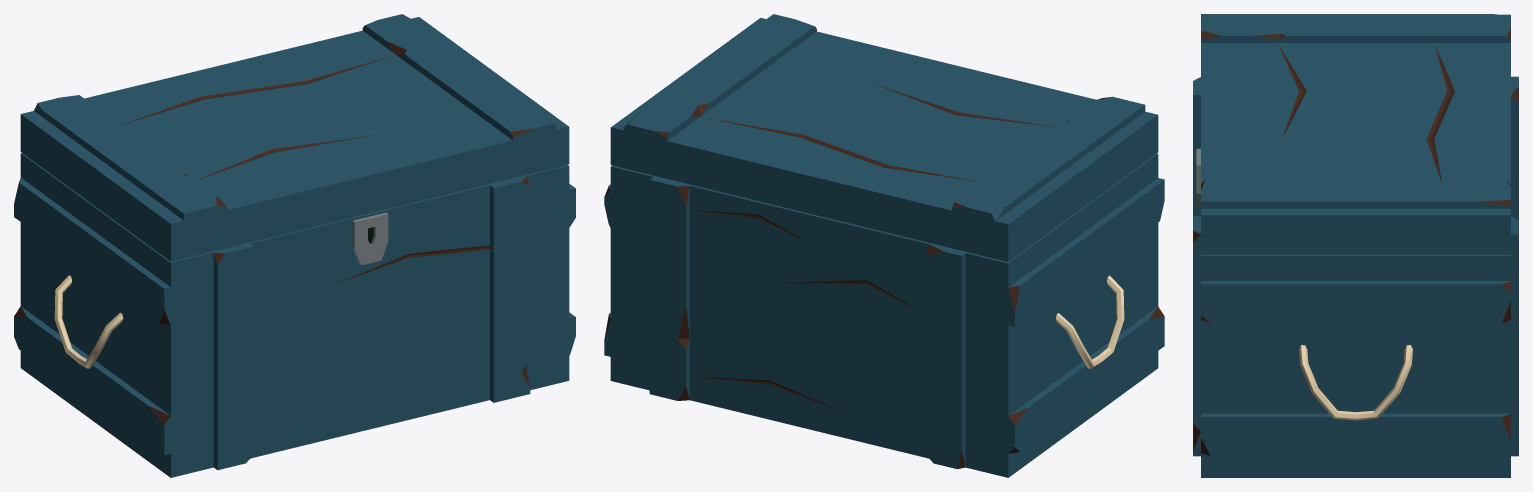
File: Caisse_Armee_Int.FBX
3 renders of one model, left to right at view 1: azimuth 30°, elevation 25°; view 2: azimuth 150°, elevation 25°; view 3: azimuth 270°, elevation 25°, orthographic. The views are drawn at different scales.
Parts seen in each view (by area): view 1: Caisse_Armee_Down, Caisse_Armee_Top; view 2: Caisse_Armee_Down, Caisse_Armee_Top; view 3: Caisse_Armee_Down, Caisse_Armee_Top.
Boxes of the visible parts, <box> form: Caisse_Armee_Down: <box>14,153,575,477</box>; Caisse_Armee_Top: <box>20,14,569,261</box>; Caisse_Armee_Down: <box>604,153,1164,477</box>; Caisse_Armee_Top: <box>610,14,1158,261</box>; Caisse_Armee_Down: <box>1193,76,1518,477</box>; Caisse_Armee_Top: <box>1201,14,1510,254</box>.
Size of the model in its own units: 94.41 by 53.51 by 58.62.
Materials: 1 (1 with a texture image).
